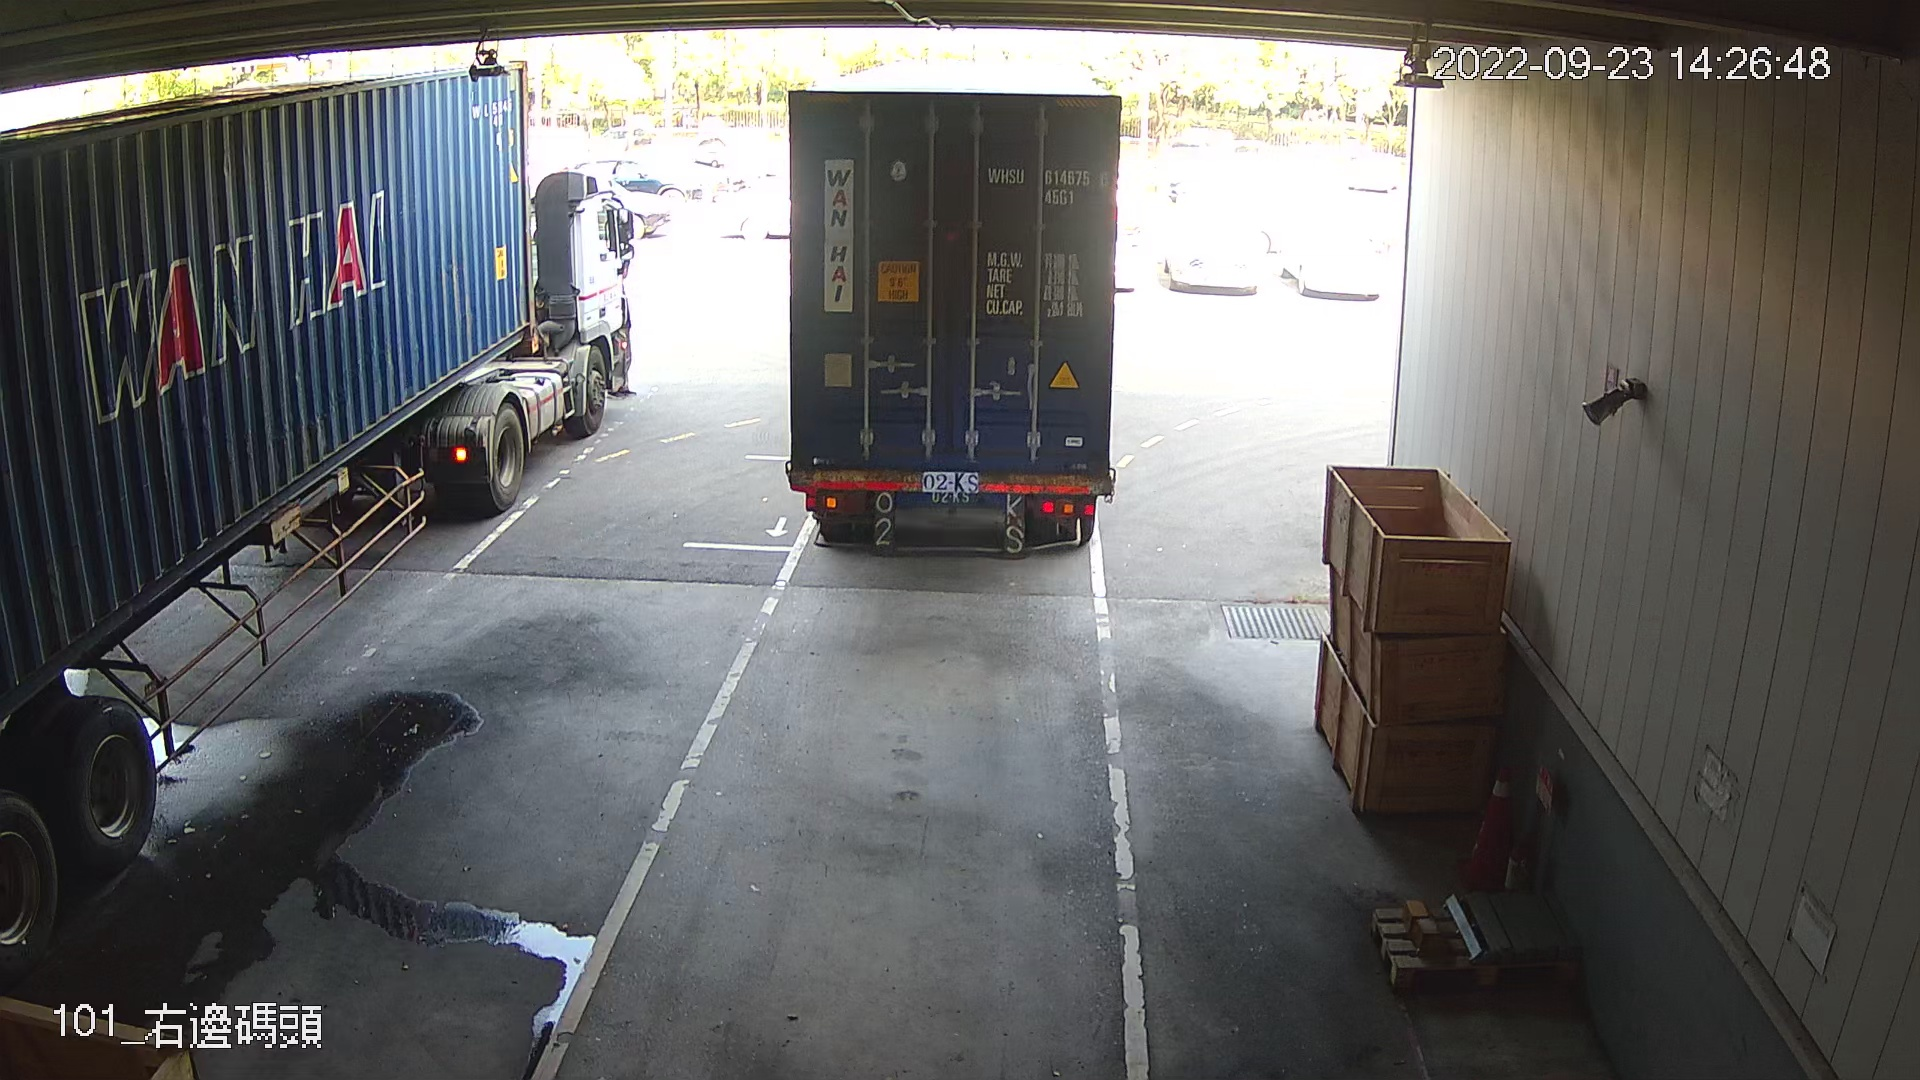container: (981, 157, 1112, 210)
